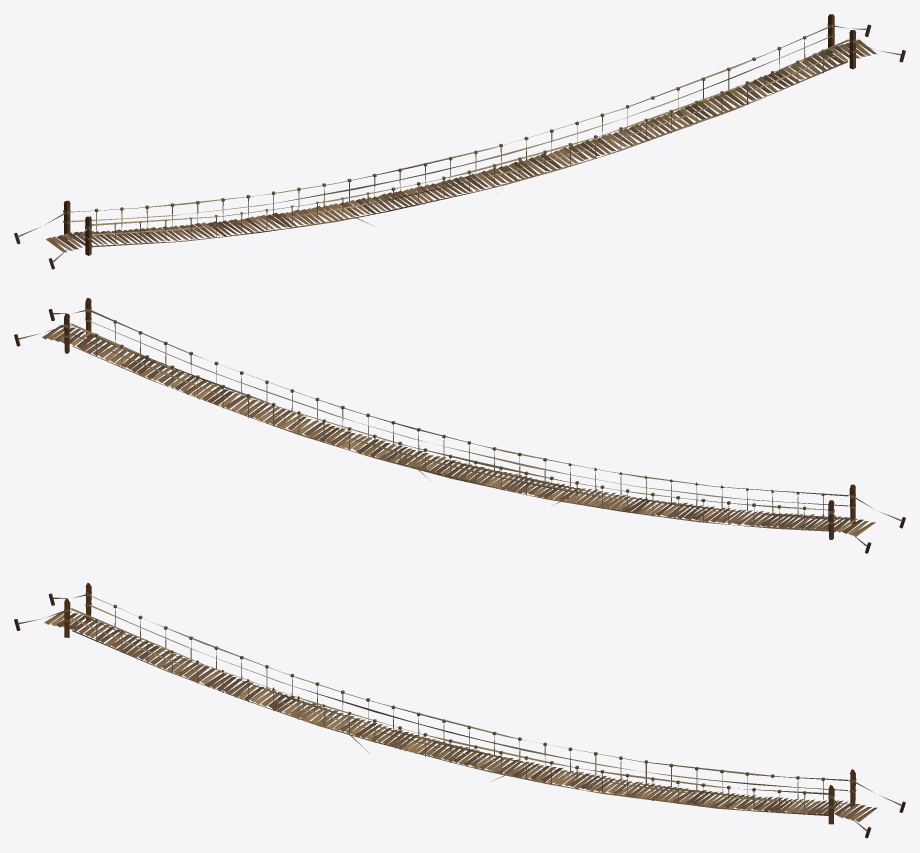
Rendered from mtn_rope_bridge-lod1.glb.
3 renders of one model, top to bottom at view 1: azimuth 30°, elevation 25°; view 2: azimuth 150°, elevation 25°; view 3: azimuth 330°, elevation 25°, orthographic.
Parts seen in each view (by area): view 1: mtn_rope_bridge; view 2: mtn_rope_bridge; view 3: mtn_rope_bridge.
Boxes of the visible parts, left/top/right/bottom form: mtn_rope_bridge: left=14, top=14, right=905, bottom=269; mtn_rope_bridge: left=14, top=298, right=905, bottom=553; mtn_rope_bridge: left=14, top=583, right=905, bottom=838.
Bounding box in the file's own units: 45.14 × 4.57 × 3.28.
